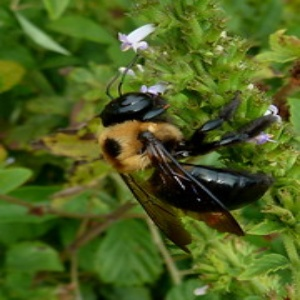bee: (98, 76, 282, 252)
